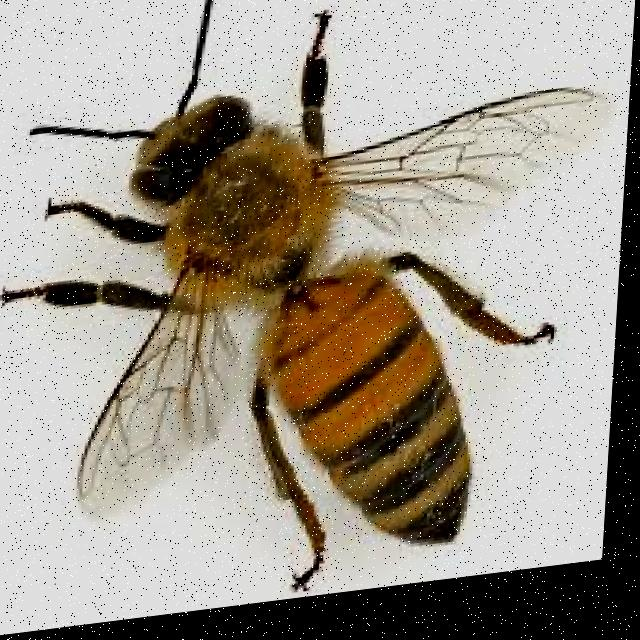Apis-mellifera-scutellata: (0, 0, 607, 635)
